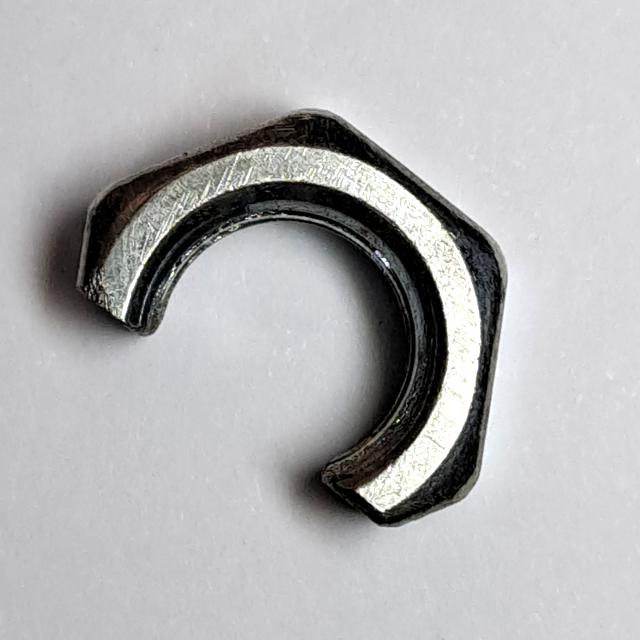Fracture: (64, 85, 516, 540)
